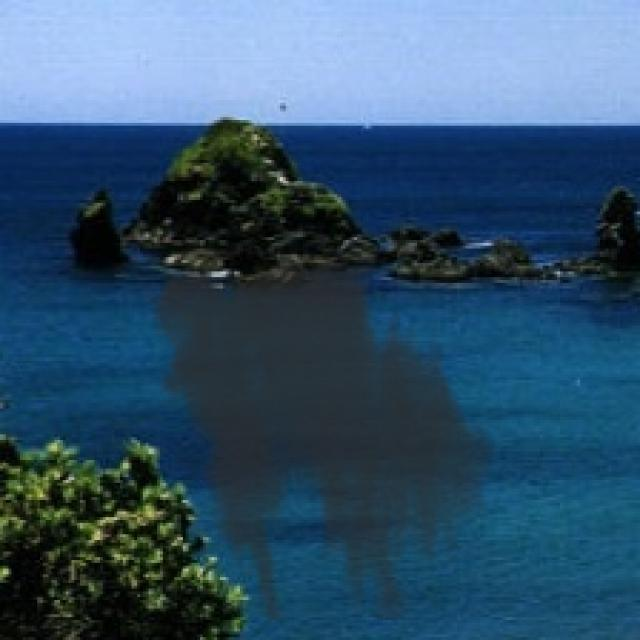smoke: (134, 234, 506, 620)
